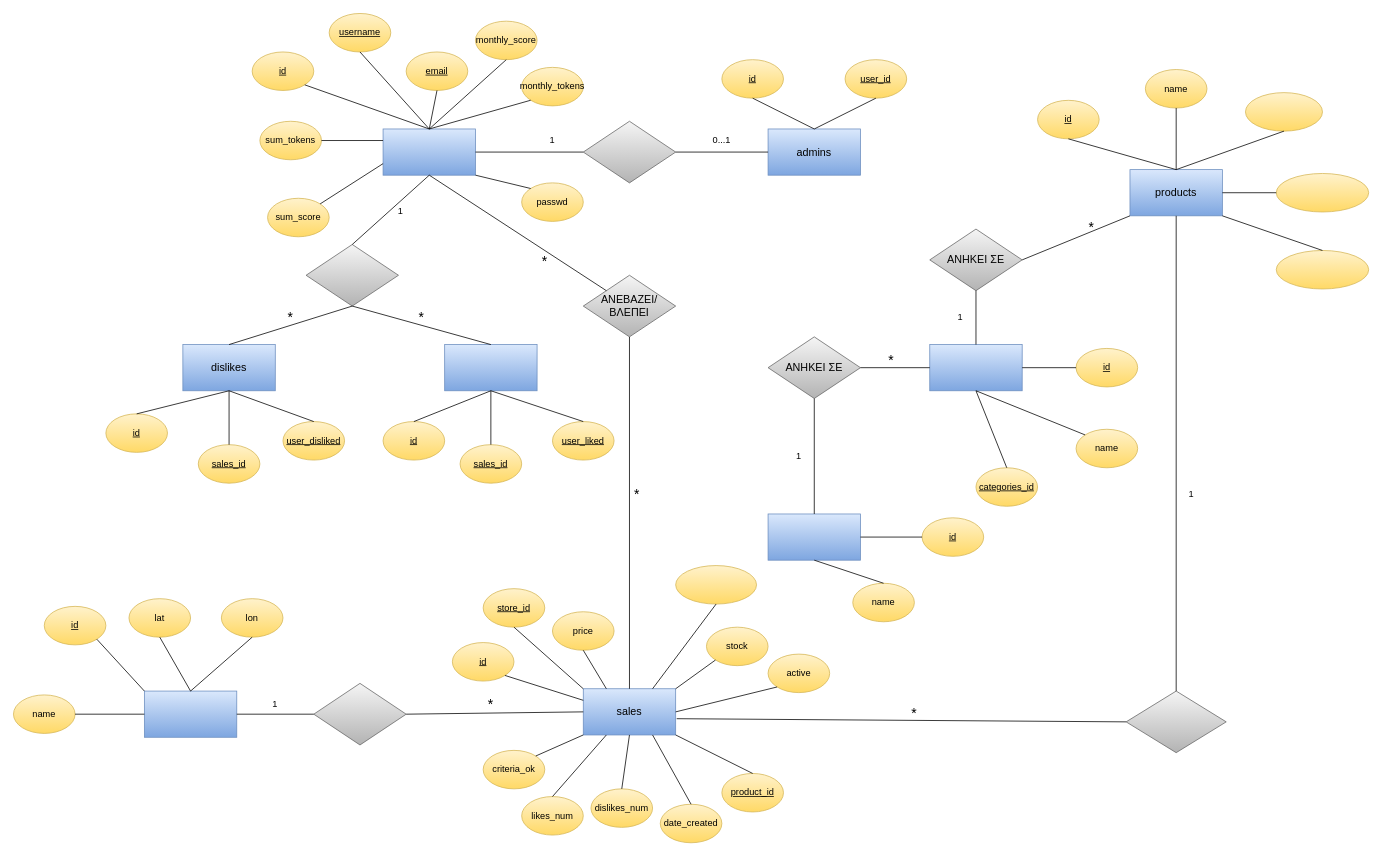
The diagram is 1382 pixels wide and 856 high, and some of its shapes have lost their labels. Here are the shapes that lost their labels. From the top down, the centre of each, then its label:
At pixel 1283 111: "subcategories_id".
At pixel 428 151: "users".
At pixel 629 152: "ΕΙΝΑΙ".
At pixel 1322 192: "avgprice_yesterday".
At pixel 351 275: "ΚΑΝΕΙ".
At pixel 1322 269: "avgprice_lastmonth".
At pixel 490 367: "likes".
At pixel 975 367: "seubcategories".
At pixel 813 536: "categories".
At pixel 716 584: "user_suggested".
At pixel 190 713: "stores".
At pixel 359 714: "ΕΧΕΙ".
At pixel 1175 721: "ΣΥΜΜΕΤΕΧΕΙ ΣΕ".
